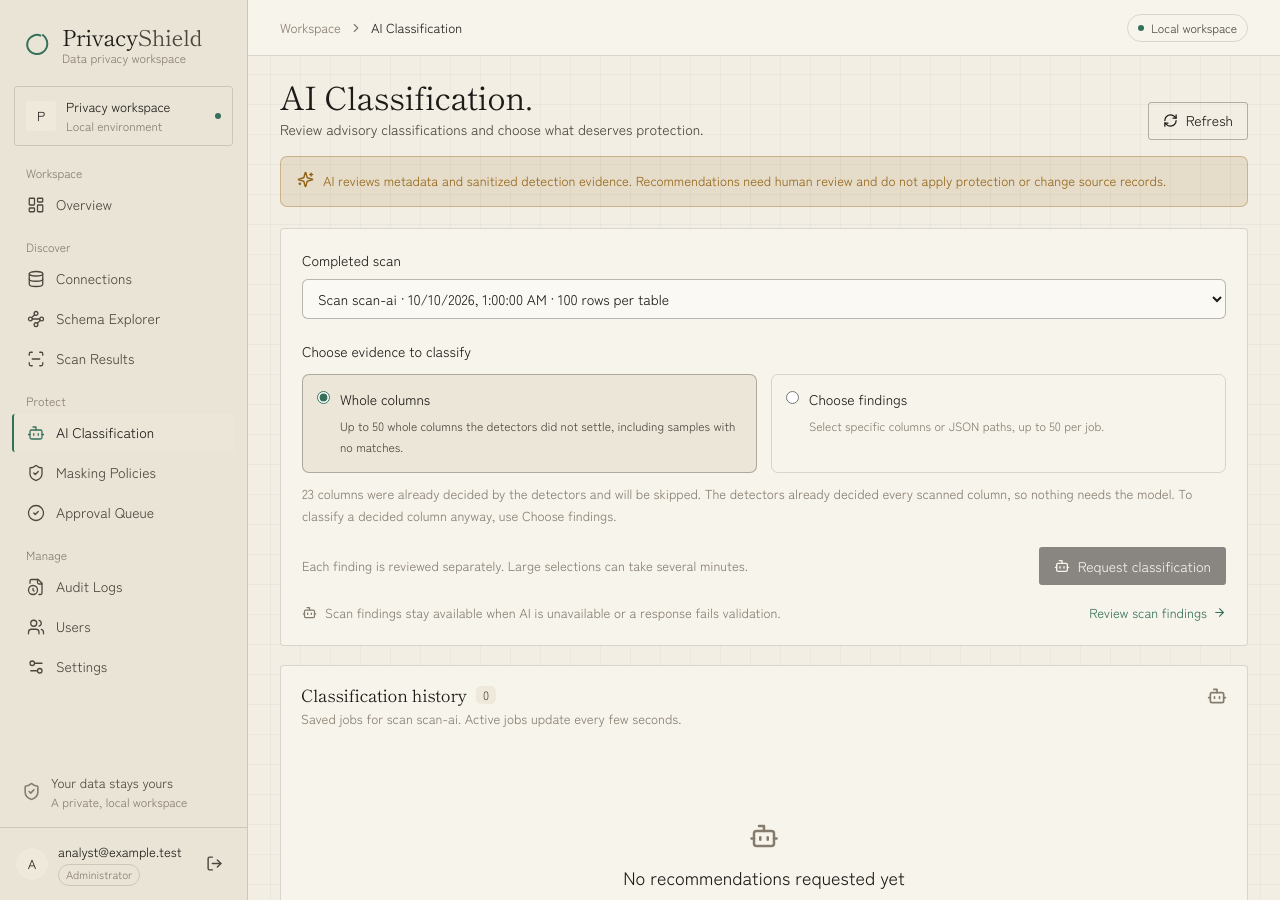
advisory AI classification › explains that nothing needs the model when the detectors decided every column
The width and height of the screenshot is (1280, 900).
Expected: the message named "What will be classified" shows "23 columns were already decided by the detectors and will be skipped.", [302,484,1192,525]
Expected: the message named "What will be classified" shows "The detectors already decided every scanned column, so nothing needs the model. To classify a decided column anyway, use Choose findings.", [302,484,1192,525]
# A decided column can still be sent by choosing it.
What coordinates should you click on to do the following:
click the radio button labelled "Choose findings"
I would click on:
 (792, 397)
Its box is [786,390,799,404].
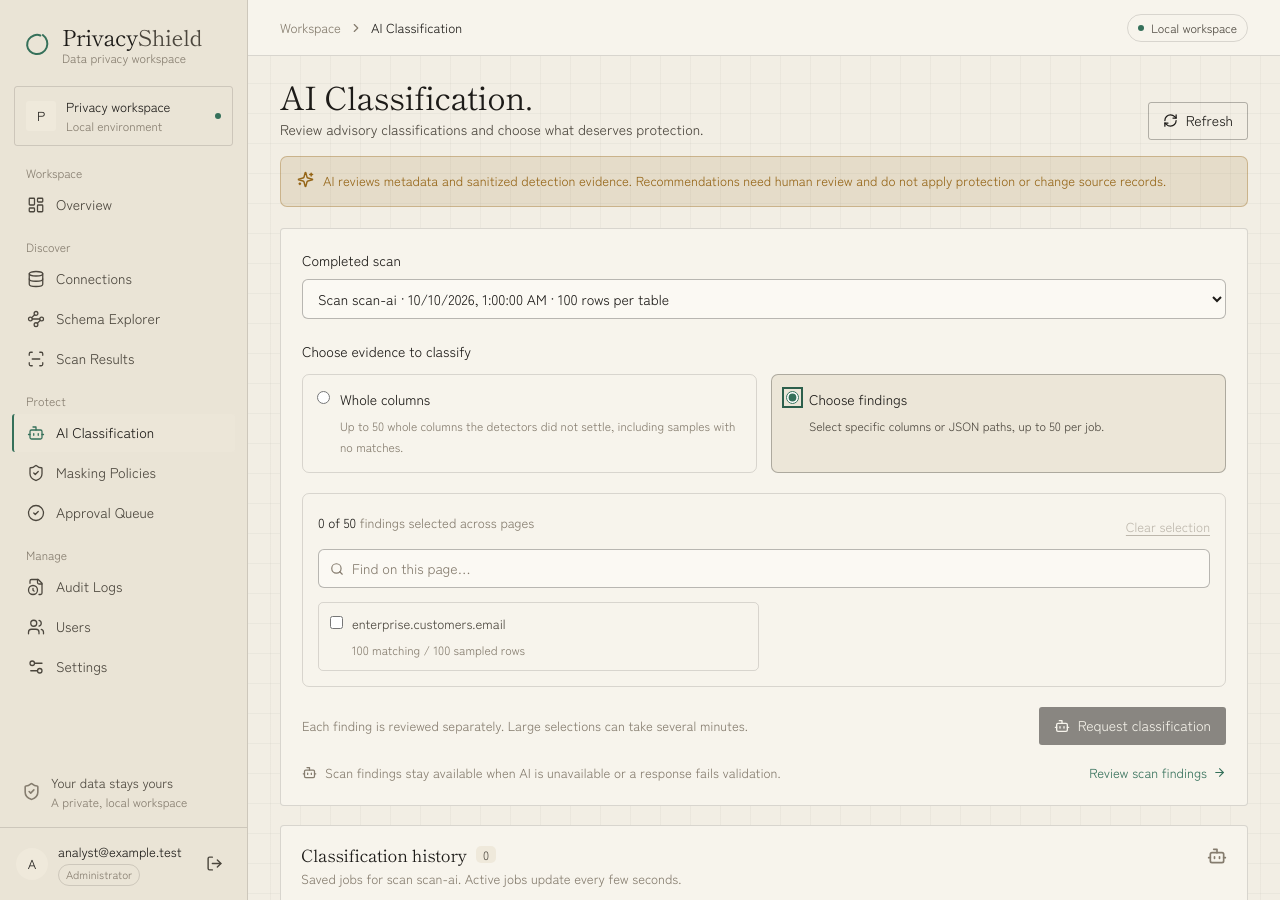
What coordinates should you click on to do the following:
click the checkbox labelled "enterprise.customers.email 100 matching / 100 sampled rows"
I would click on:
 (336, 623)
Its box is [330,616,343,629].
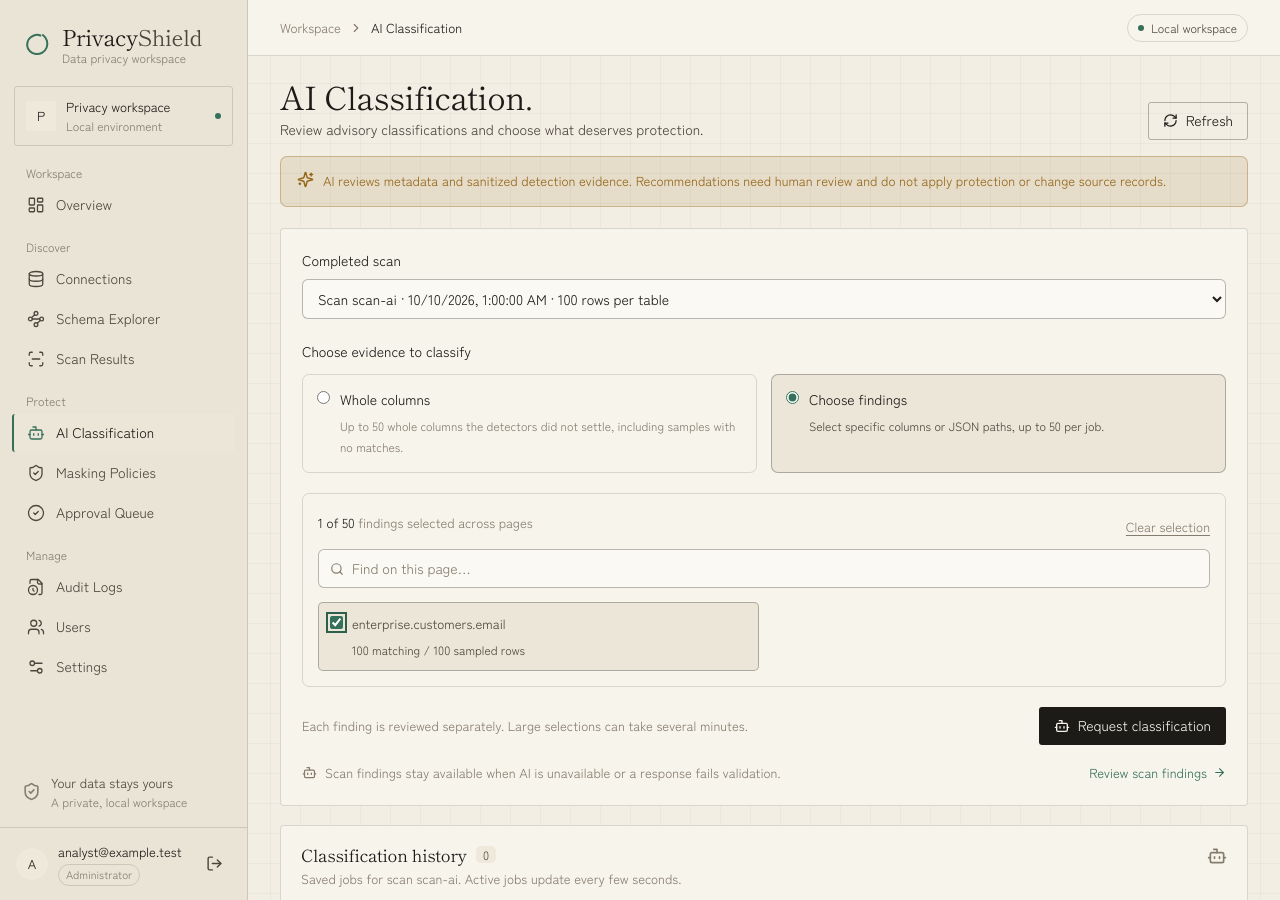
Now the button "Request classification" is enabled, box [1039,707,1226,745]
